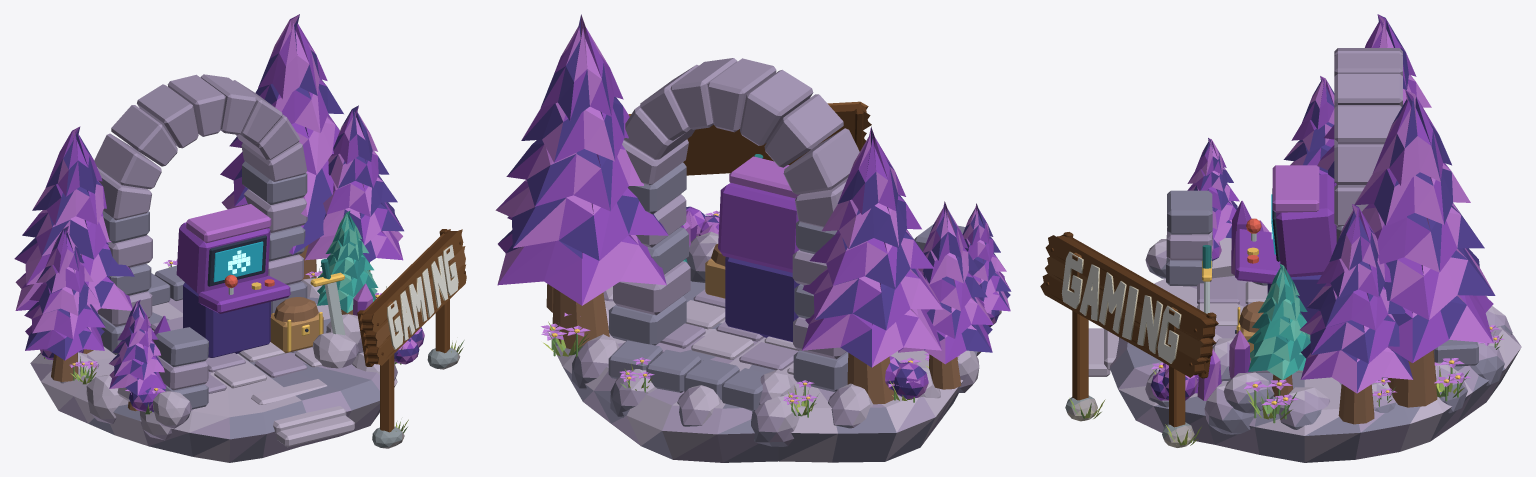
The model's file is gaming.glb.
The picture shows the model from 3 angles, left to right: view 1: azimuth 30°, elevation 25°; view 2: azimuth 150°, elevation 25°; view 3: azimuth 270°, elevation 25°; orthographic projection. The views are drawn at different scales.
Parts seen in each view (by area): view 1: Gaming color-batched geometry; view 2: Gaming color-batched geometry; view 3: Gaming color-batched geometry.
Part boxes in pixels (left/top/right/bottom): Gaming color-batched geometry: left=14, top=14, right=466, bottom=462; Gaming color-batched geometry: left=495, top=14, right=1011, bottom=462; Gaming color-batched geometry: left=1040, top=14, right=1521, bottom=462.
Size of the model in its own units: 6.61 by 5.09 by 6.16.
